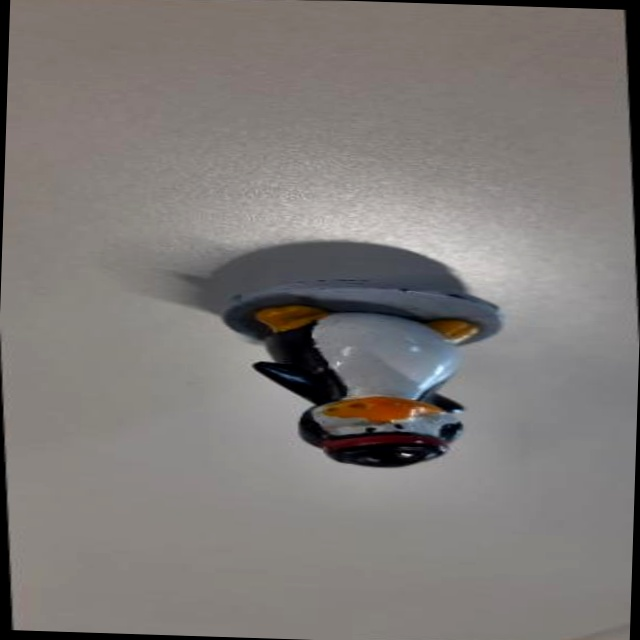Penguin: (177, 271, 535, 481)
